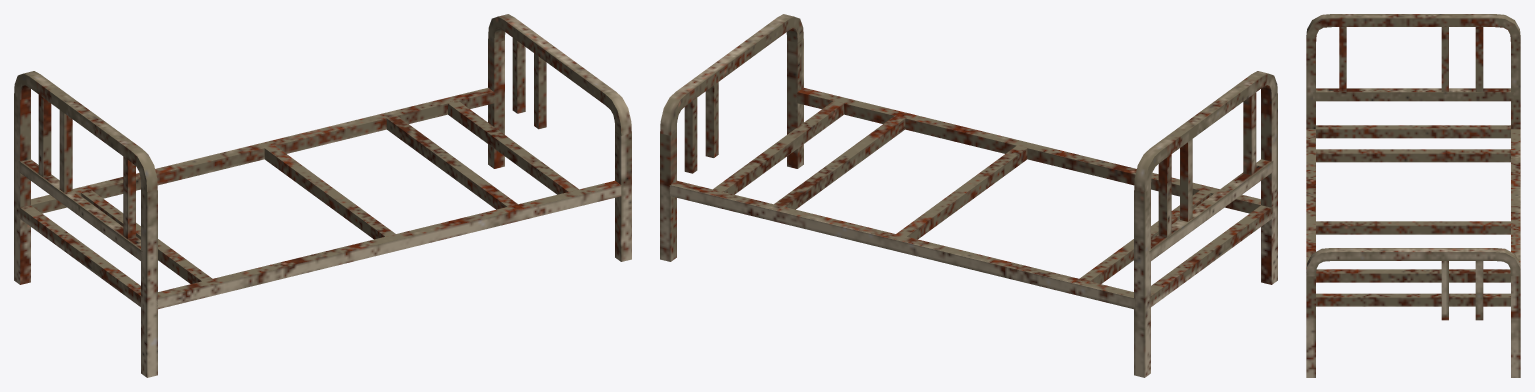
File: bed_frame_destroyed.fbx
3 renders of one model, left to right at view 1: azimuth 30°, elevation 25°; view 2: azimuth 150°, elevation 25°; view 3: azimuth 270°, elevation 25°, orthographic. The views are drawn at different scales.
Visible parts, largest first — view 1: bed_frame_destroyed; view 2: bed_frame_destroyed; view 3: bed_frame_destroyed.
Boxes of the visible parts, x1=… form: bed_frame_destroyed: x1=14, y1=14, x2=631, y2=377; bed_frame_destroyed: x1=660, y1=14, x2=1277, y2=377; bed_frame_destroyed: x1=1306, y1=14, x2=1520, y2=377.
Size of the model in its own units: 198 by 84.18 by 94.35.
Materials: 1 (1 with a texture image).
